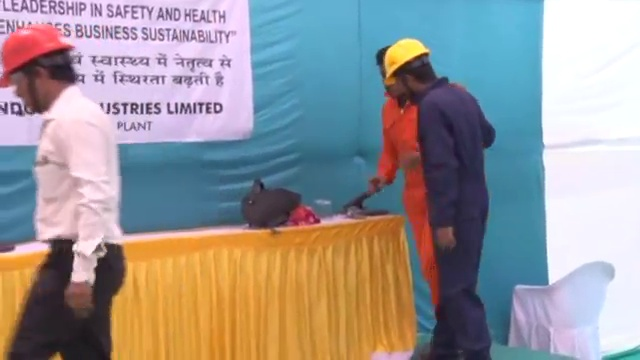helmet: (1, 23, 74, 88), (381, 35, 432, 84)
helmet_on: (1, 23, 84, 111), (379, 34, 453, 94)
person: (1, 23, 133, 360), (375, 24, 497, 360), (371, 43, 447, 305)
